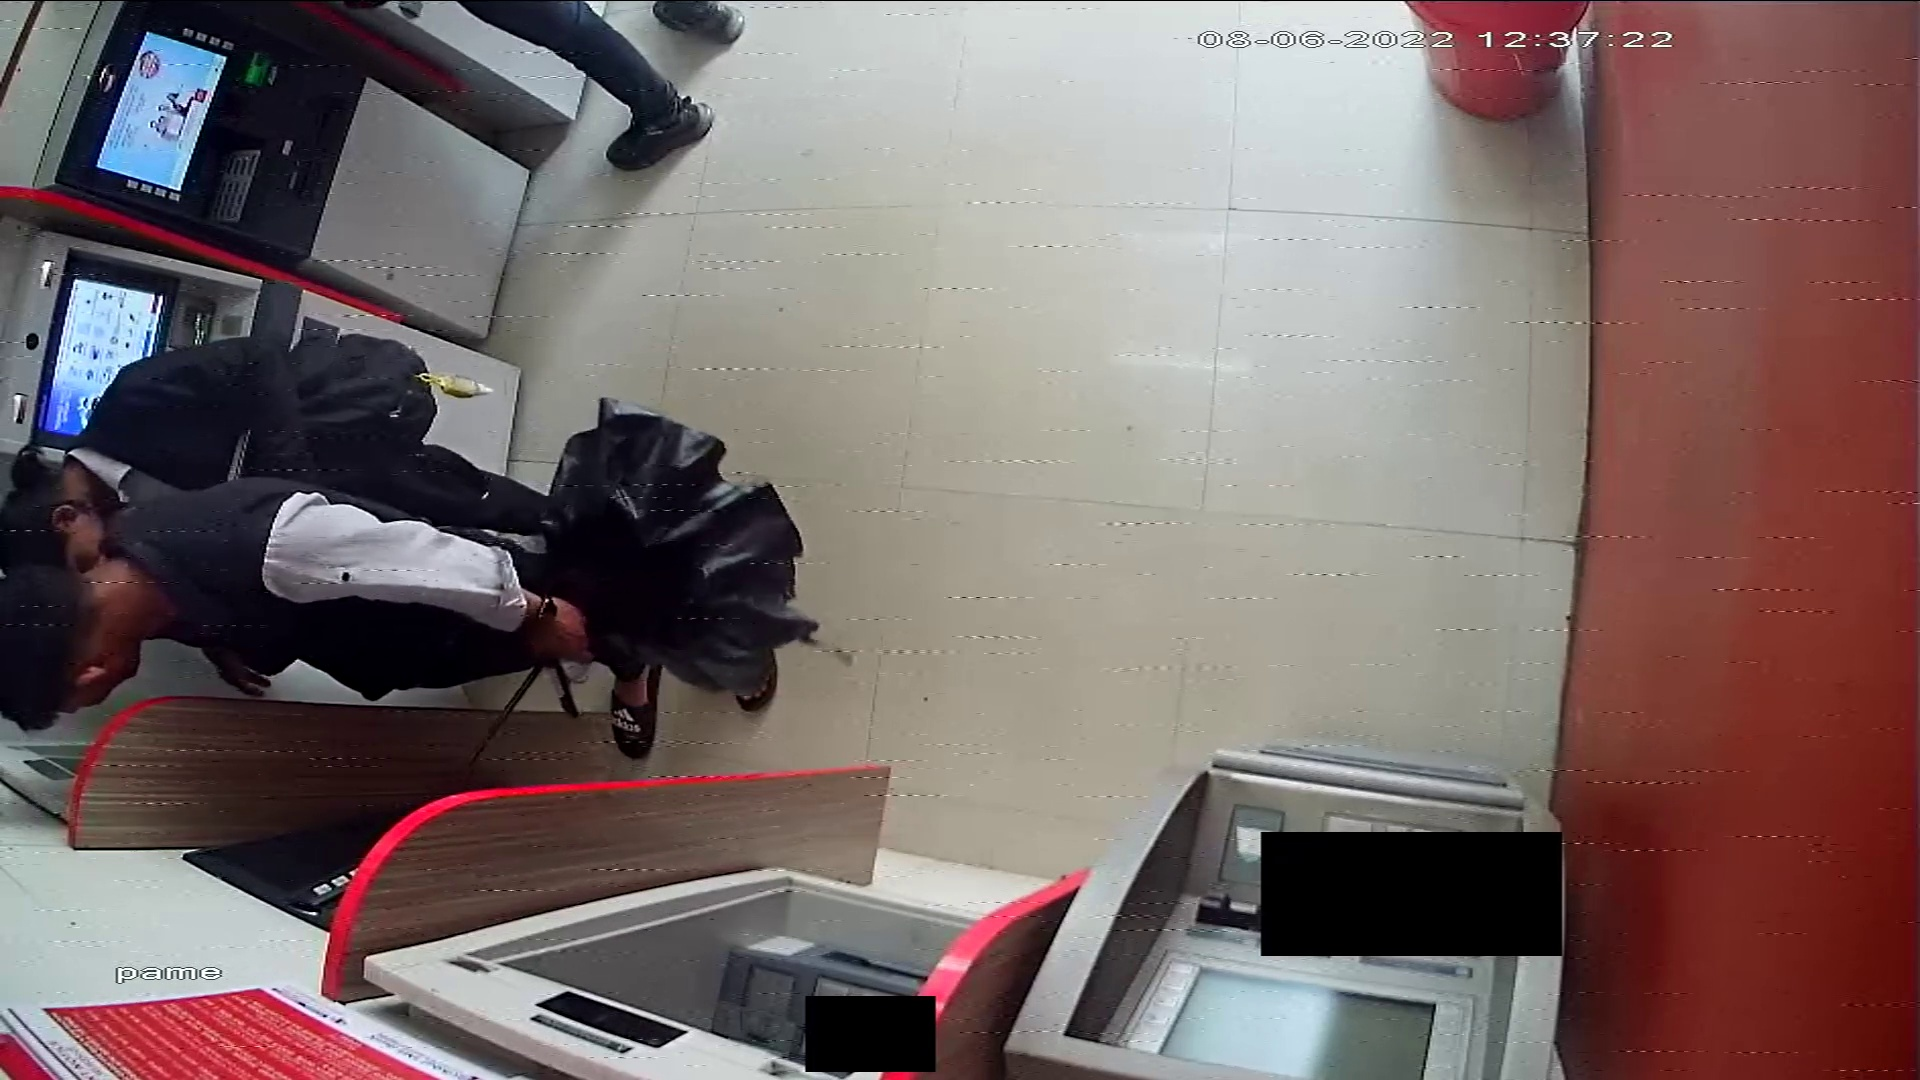person: (1, 474, 802, 759), (1, 331, 618, 561), (453, 1, 769, 171)
